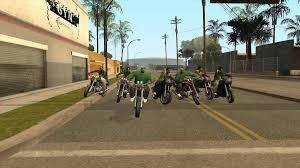bike: (129, 66, 152, 121), (211, 66, 238, 106), (176, 66, 198, 105), (156, 67, 174, 105), (115, 64, 133, 101), (87, 66, 107, 97)
